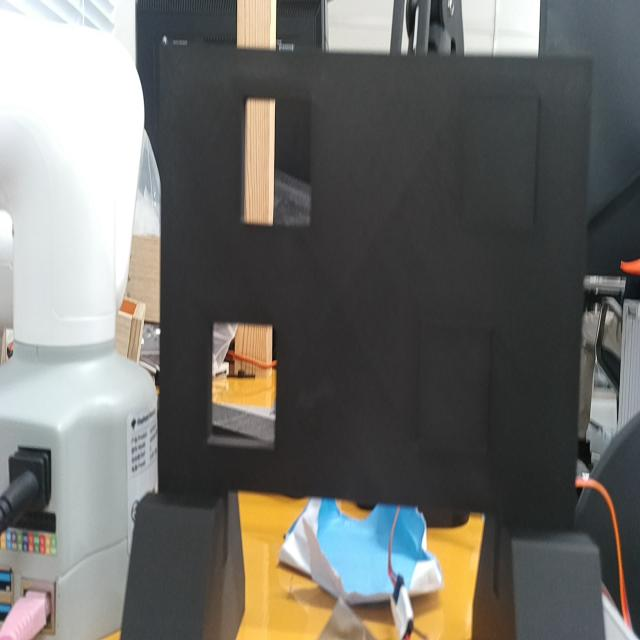Obstacle: (242, 99, 313, 224), (207, 322, 278, 442)
Wall: (158, 43, 592, 519)
